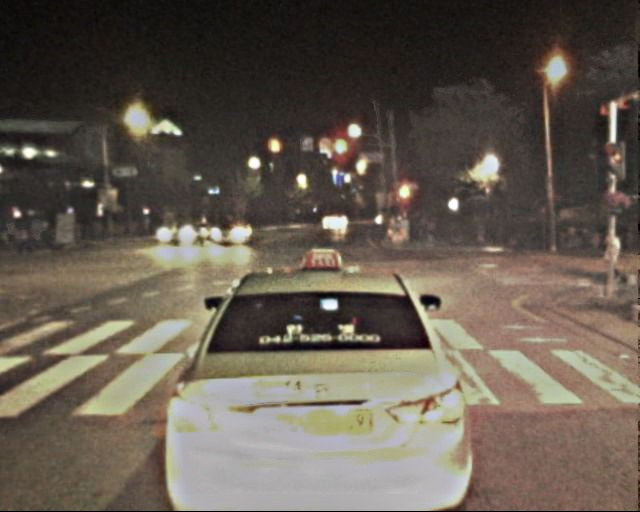person: (7, 217, 47, 253), (598, 225, 622, 283), (407, 218, 441, 243)
